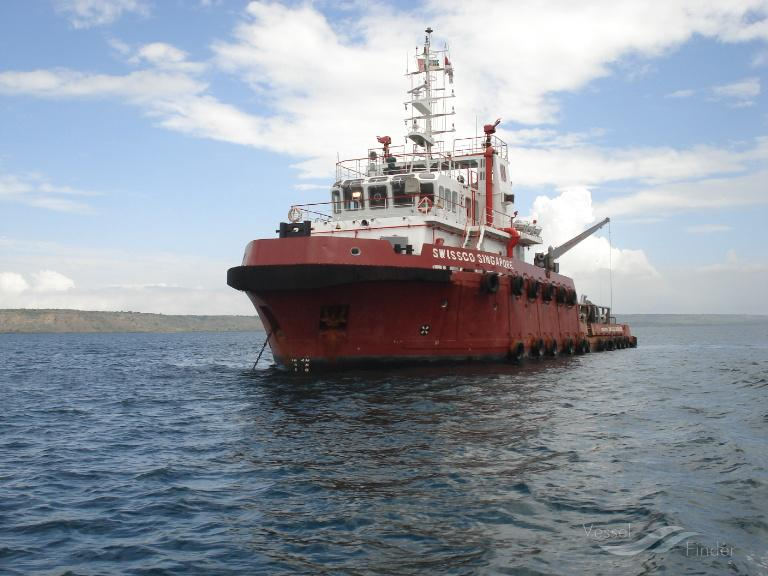OCR: (432, 243, 516, 275)
